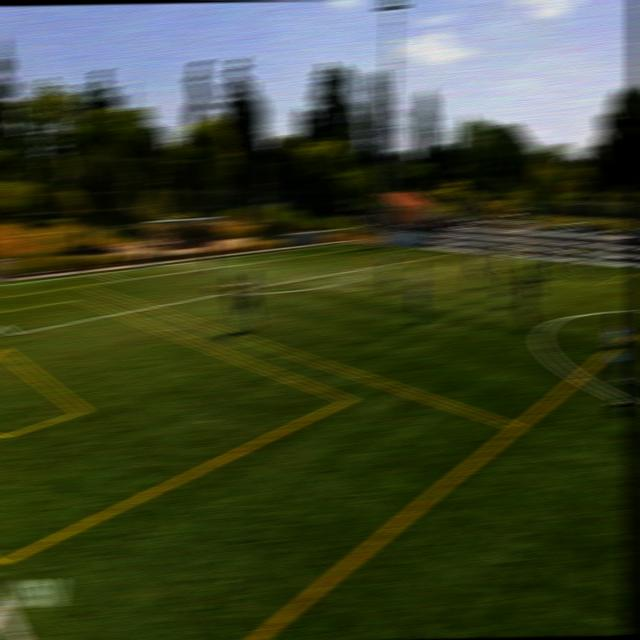bigarea_bottom_inner: (1, 324, 23, 344)
bigarea_top_inner: (423, 251, 443, 262)
bigarea_top_outter: (318, 243, 331, 249)
corner: (344, 240, 357, 244)
smallarea_bottom_inner: (116, 272, 130, 286)
smallarea_bottom_outter: (88, 270, 104, 278)
smallarea_top_inner: (280, 252, 295, 262)
smallarea_top_outter: (252, 249, 265, 258)
top_arc_area_intersection: (349, 261, 365, 277)
